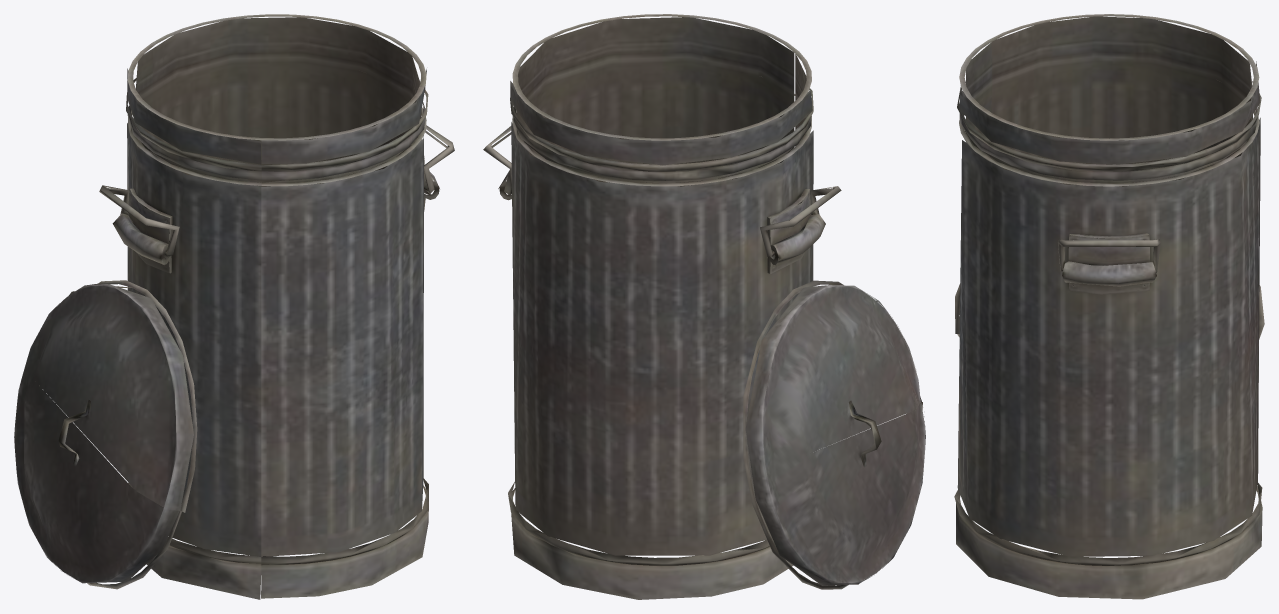
File: trash_bin.glb
3 views of the same model, side by side, from view 1: azimuth 30°, elevation 25°; view 2: azimuth 150°, elevation 25°; view 3: azimuth 270°, elevation 25° (orthographic).
Visible parts, largest first — view 1: trash_bin; view 2: trash_bin; view 3: trash_bin.
Boxes of the visible parts, left/top/right/bottom form: trash_bin: left=14, top=14, right=454, bottom=599; trash_bin: left=483, top=14, right=925, bottom=599; trash_bin: left=954, top=14, right=1264, bottom=599.
Bounding box in the file's own units: 0.0389 × 0.0453 × 0.0278.
Materials: 1 (1 with a texture image).
